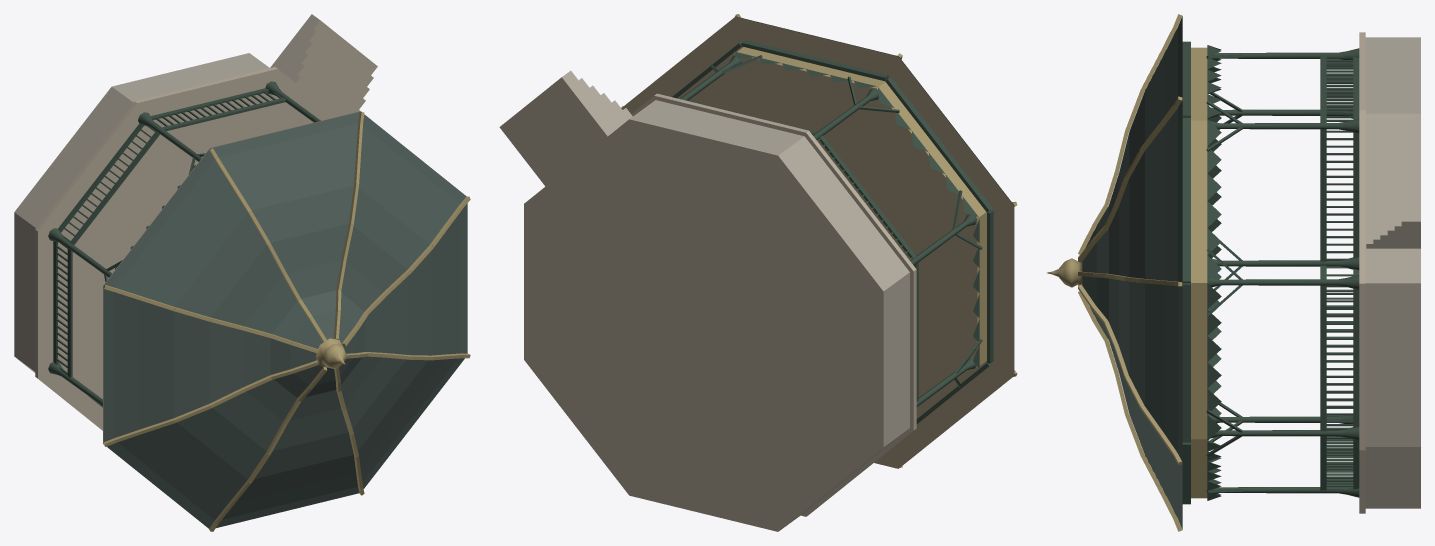
The model's file is glorieta.glb.
The picture shows the model from 3 angles, left to right: view 1: azimuth 30°, elevation 25°; view 2: azimuth 150°, elevation 25°; view 3: azimuth 270°, elevation 25°; orthographic projection. The views are drawn at different scales.
Visible parts, largest first — view 1: glorieta; view 2: glorieta; view 3: glorieta.
Boxes of the visible parts, x1=… form: glorieta: x1=14, y1=14, x2=470, y2=531; glorieta: x1=499, y1=14, x2=1017, y2=531; glorieta: x1=1047, y1=14, x2=1420, y2=531.
Size of the model in its own units: 11.88 by 11.88 by 9.13.
